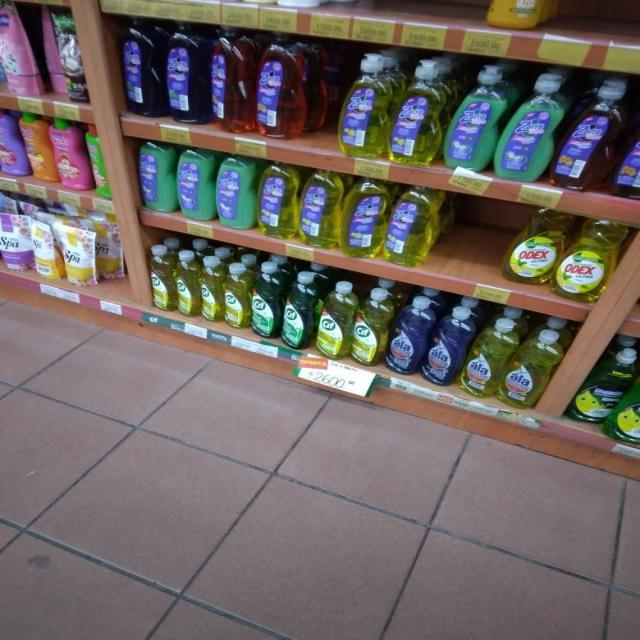ala_conc_amarillo: (467, 314, 509, 400)
ala_conc_azul: (427, 303, 468, 388), (389, 294, 427, 376)
odex: (558, 218, 616, 303), (502, 208, 559, 288)
zorro: (500, 72, 558, 182), (558, 82, 616, 192), (448, 65, 502, 172), (391, 58, 444, 165), (256, 33, 306, 140), (338, 52, 388, 159), (210, 25, 253, 133), (386, 184, 436, 266), (343, 175, 385, 259), (300, 168, 340, 250), (616, 99, 640, 200)
